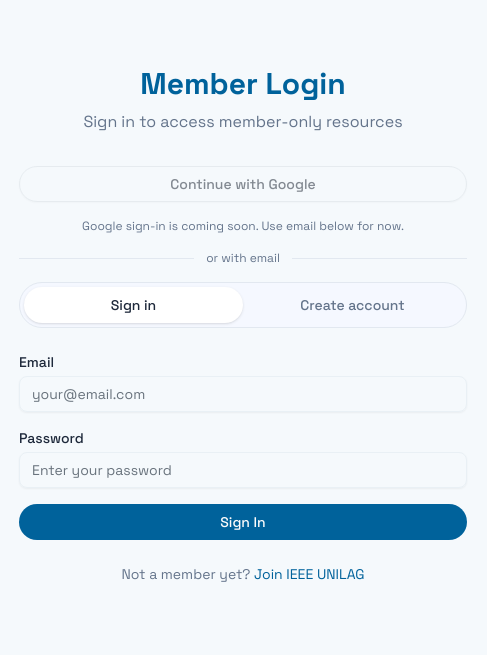
Test: login page › creates an account from the signup tab and navigates home
Click the button "Create account" at (352, 305), box [243,287,462,323]
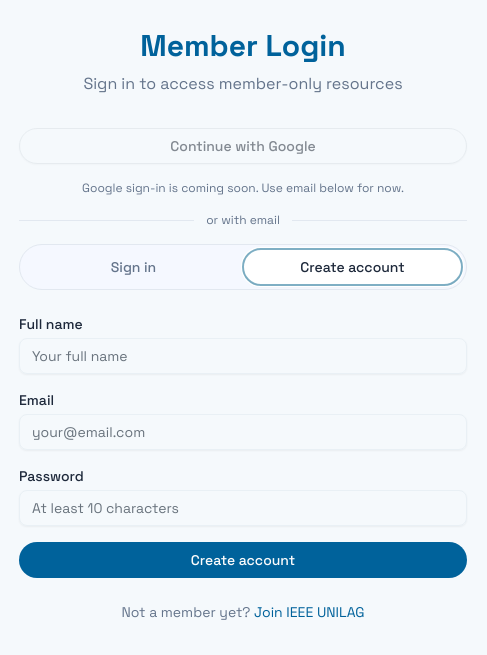
Type "Ada Lovelace" into the field labelled "Full name" at (243, 356), box [19,338,467,374]
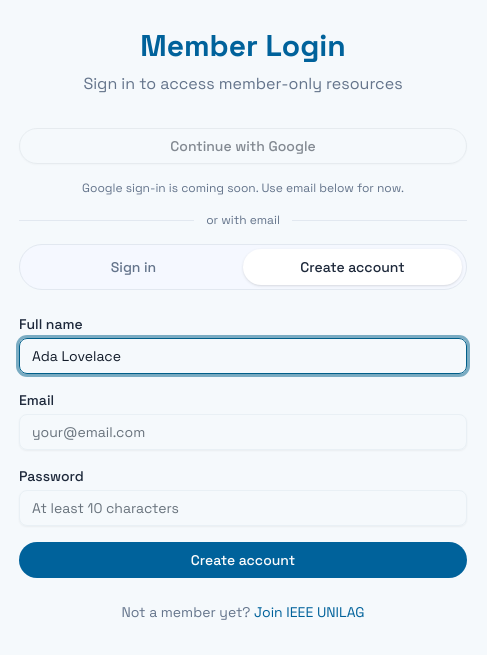
Type "ada@example.com" into the field labelled "Email" at (243, 432), box [19,414,467,450]
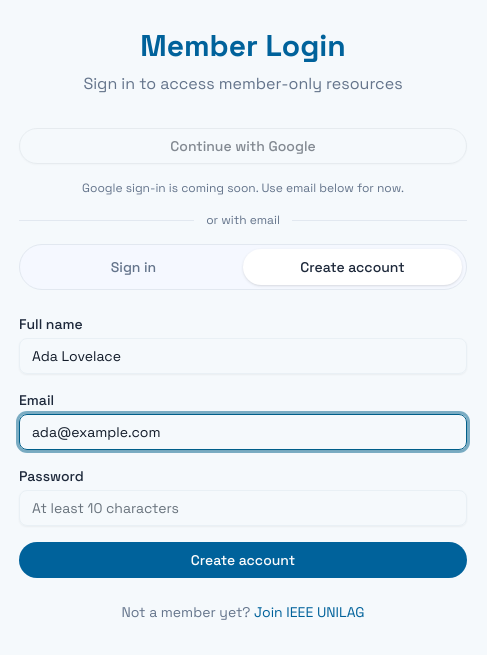
Type "CorrectHorse123!" into the password field labelled "Password" at (243, 508), box [19,490,467,526]
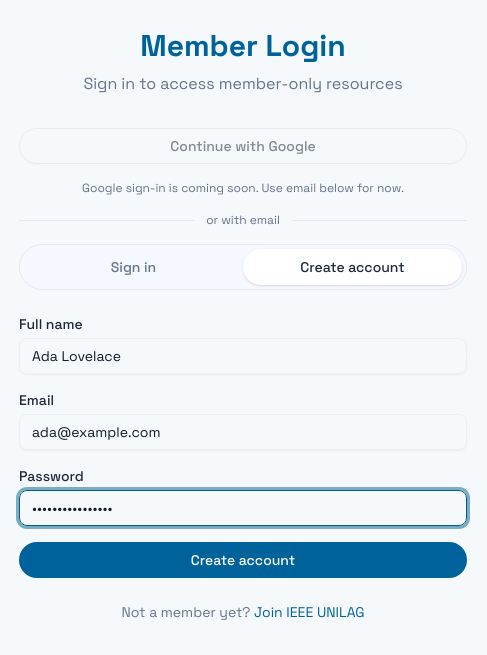
expect the button "Create account" below "Password" is shown: met
Click the button "Create account" below "Password" at (243, 560), box [19,542,467,578]
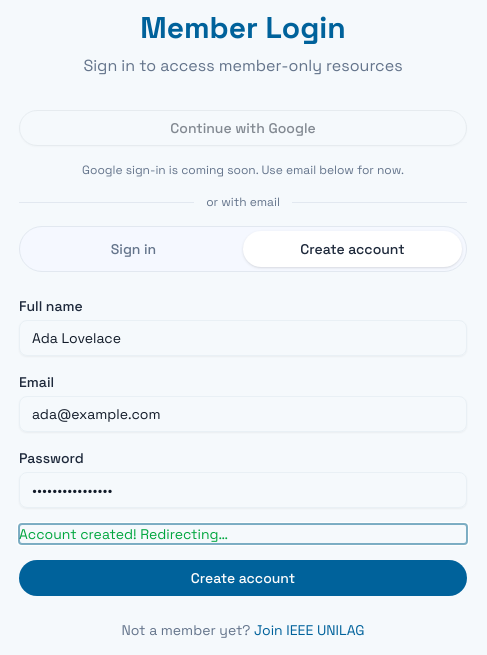
expect the text "Account created! Redirecting…" is shown: met, box [19,525,228,543]
